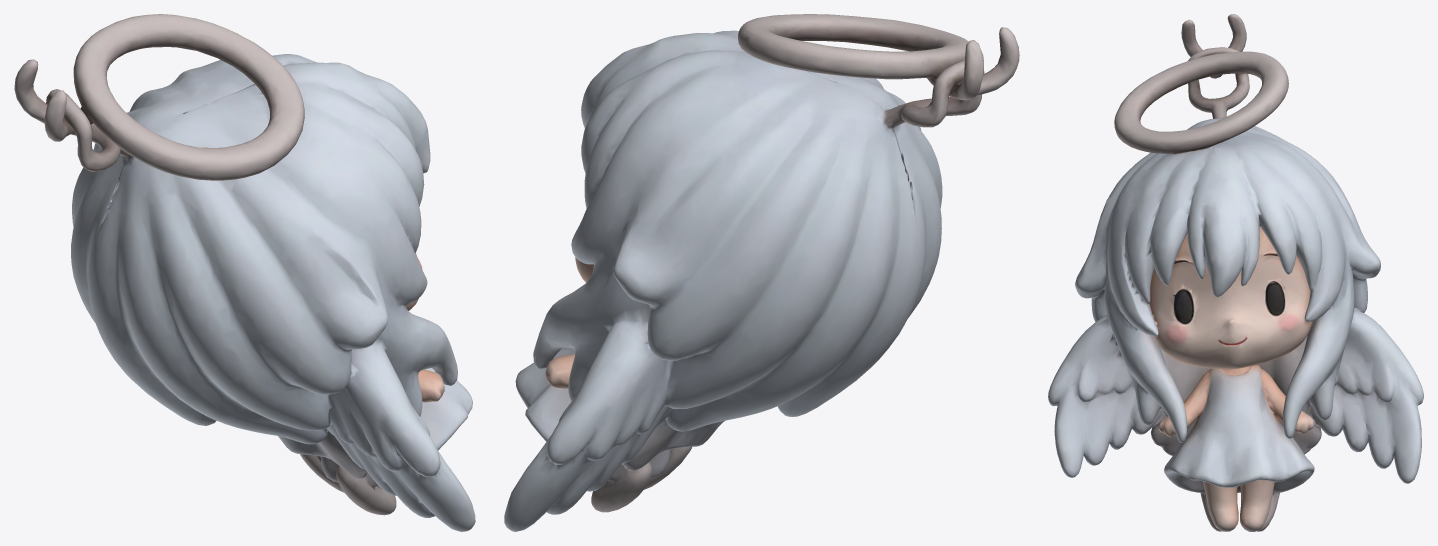
The model's file is angel.glb.
3 renders of one model, left to right at view 1: azimuth 30°, elevation 25°; view 2: azimuth 150°, elevation 25°; view 3: azimuth 270°, elevation 25°, orthographic. The views are drawn at different scales.
Visible parts, largest first — view 1: tripo_node_0c305eb5-100d-475e-a568-3df3470f0df3; view 2: tripo_node_0c305eb5-100d-475e-a568-3df3470f0df3; view 3: tripo_node_0c305eb5-100d-475e-a568-3df3470f0df3.
Boxes of the visible parts, <box> form: tripo_node_0c305eb5-100d-475e-a568-3df3470f0df3: <box>14,14,475,531</box>; tripo_node_0c305eb5-100d-475e-a568-3df3470f0df3: <box>504,14,1019,531</box>; tripo_node_0c305eb5-100d-475e-a568-3df3470f0df3: <box>1048,14,1423,531</box>.
Bounding box in the file's own units: 0.8728 × 1 × 0.8667.
Materials: 1 (1 with a texture image).
